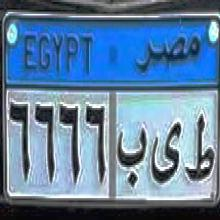6: (35, 102, 58, 186), (10, 102, 32, 182), (60, 105, 82, 184), (88, 103, 106, 185)
Taa: (183, 112, 216, 193)
baa: (117, 120, 148, 193)
yaa: (150, 121, 182, 186)
